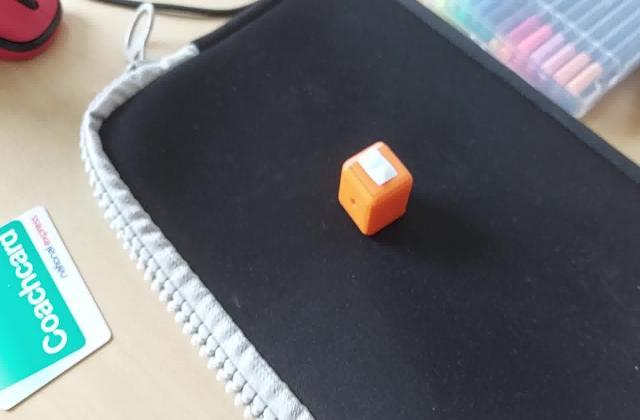sticker: (336, 137, 416, 237)
white: (360, 156, 400, 187)
